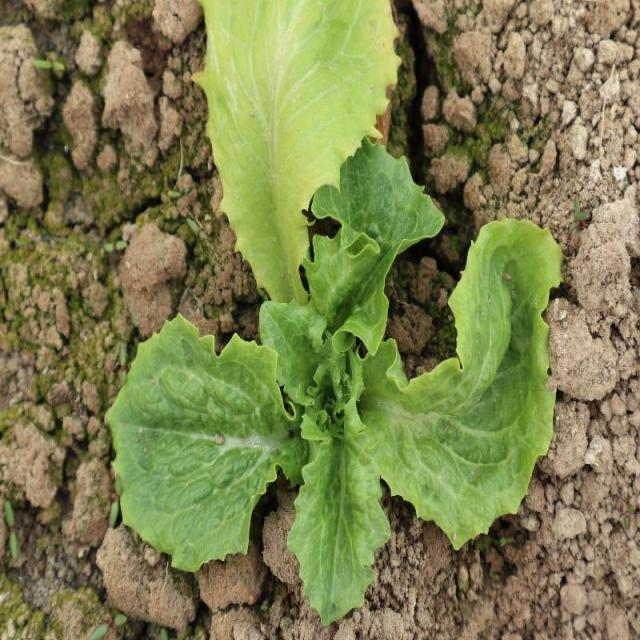crop: (105, 0, 564, 628)
